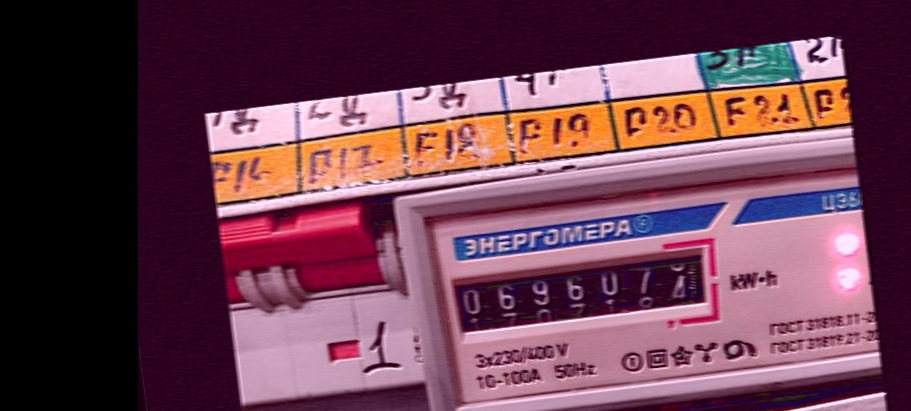0: (600, 268, 622, 300), (462, 288, 483, 318)
4: (670, 275, 689, 305)
6: (565, 275, 588, 306), (497, 283, 519, 313)
7: (636, 266, 656, 298)
9: (532, 280, 552, 310)
screen: (437, 232, 731, 355)
